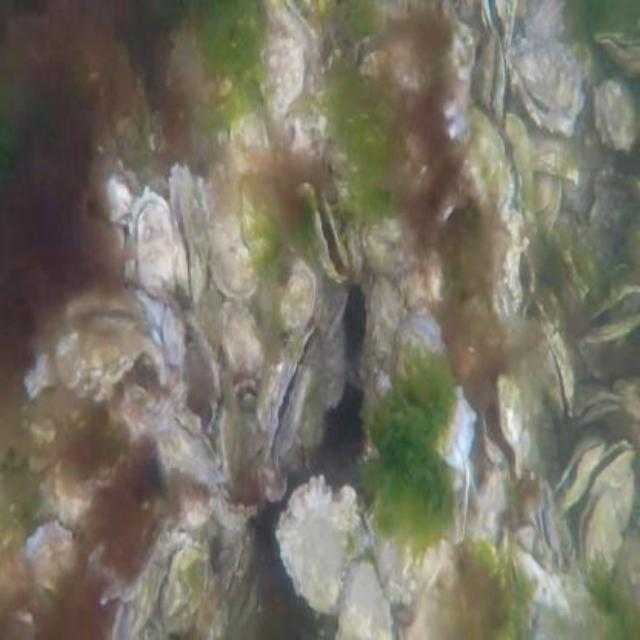Oyster-Closed: (279, 478, 404, 638), (53, 289, 148, 384), (86, 498, 168, 604), (209, 163, 260, 303), (255, 0, 307, 121), (468, 116, 523, 229), (214, 385, 265, 505), (128, 190, 178, 297), (157, 416, 223, 491), (392, 313, 447, 400), (338, 561, 393, 638), (580, 493, 625, 584), (161, 549, 209, 627), (593, 80, 638, 150), (223, 304, 262, 377), (280, 259, 317, 334), (574, 390, 623, 433), (213, 496, 257, 537)
Oyster-Open: (575, 439, 638, 582), (508, 34, 588, 139), (266, 320, 319, 471), (169, 166, 213, 308), (292, 179, 350, 283), (552, 434, 610, 522), (515, 478, 563, 577), (538, 303, 575, 430), (480, 379, 526, 481), (578, 280, 638, 356), (27, 521, 75, 597), (433, 388, 476, 466), (471, 35, 505, 121), (505, 241, 533, 312), (597, 30, 638, 73), (485, 0, 518, 44), (355, 38, 390, 79), (238, 381, 259, 415)
